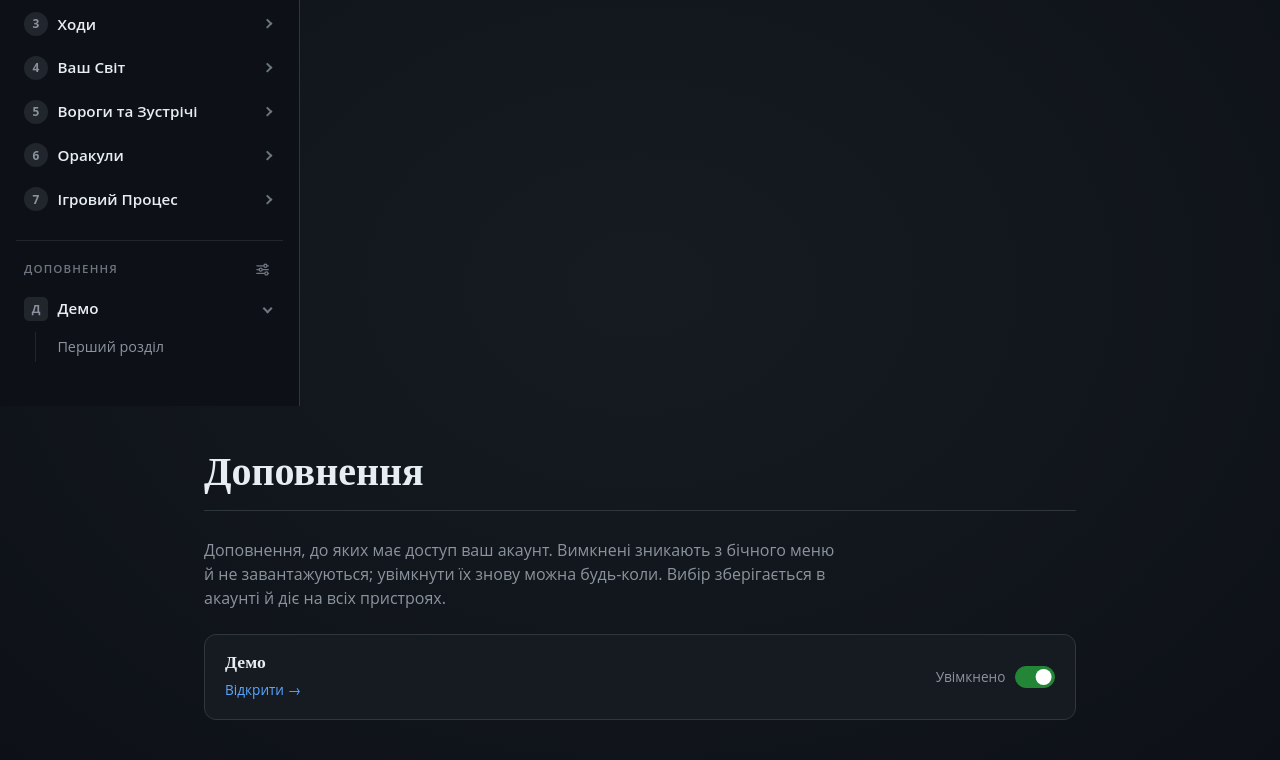
Test: extension settings › puts the switch back and says so when saving fails
(page scrolled)
Click the switch named "Демо" at [995, 677], box x1=936 y1=666 x2=1055 y2=688
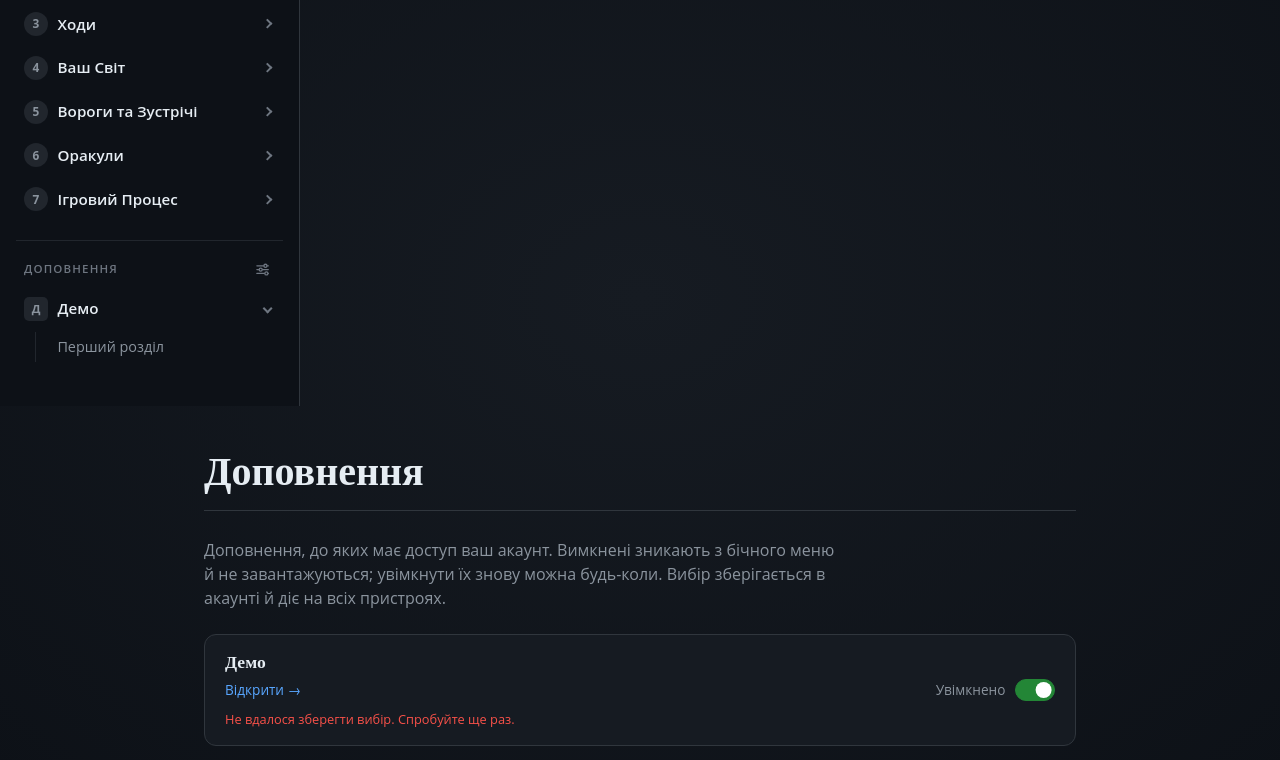
Expected: the switch named "Демо" is checked, x1=936 y1=679 x2=1055 y2=701
Now the text "Не вдалося зберегти вибір. Спробуйте ще раз." is shown, box x1=225 y1=709 x2=515 y2=729
